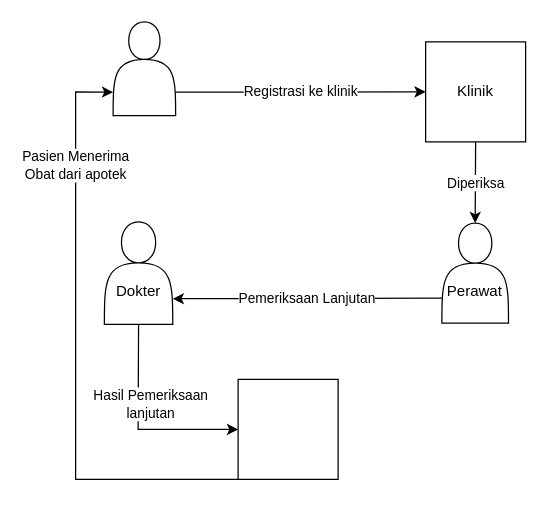
This 548x511 diagram has some shape labels left out. Here are the shapes that lost their labels. From the top down, the box of each, then its label:
(112, 21, 176, 116): Pasien
(237, 378, 338, 479): Apotek
